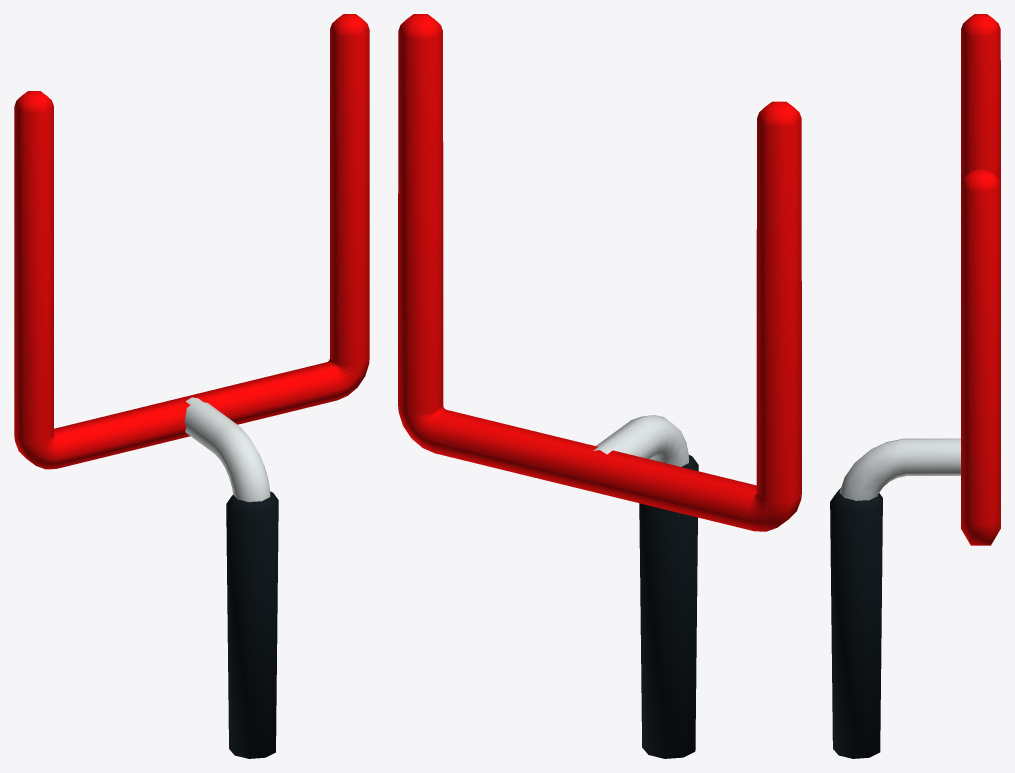
Rendered from SM_GoalPoast_MC.fbx.
The picture shows the model from 3 angles, left to right: view 1: azimuth 30°, elevation 25°; view 2: azimuth 150°, elevation 25°; view 3: azimuth 270°, elevation 25°; orthographic projection. The views are drawn at different scales.
Visible parts, largest first — view 1: SM_GoalPoast_MC; view 2: SM_GoalPoast_MC; view 3: SM_GoalPoast_MC.
Part boxes in pixels (bbox=[...]): SM_GoalPoast_MC: bbox=[14, 14, 369, 758]; SM_GoalPoast_MC: bbox=[398, 14, 801, 758]; SM_GoalPoast_MC: bbox=[830, 14, 1000, 758].
Bounding box in the file's own units: 323 × 583 × 137.
